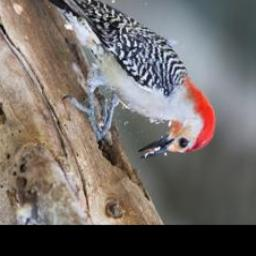Woodpecker: (12, 0, 215, 159)
